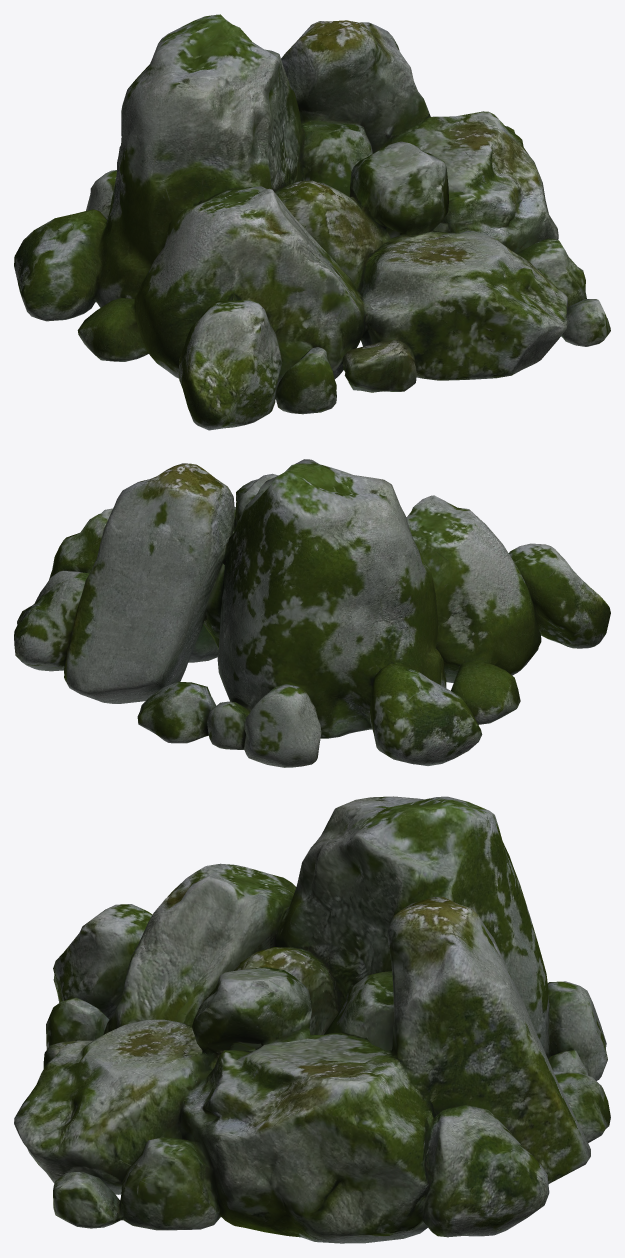
File: prop_rocks.glb
The picture shows the model from 3 angles, top to bottom: view 1: azimuth 30°, elevation 25°; view 2: azimuth 150°, elevation 25°; view 3: azimuth 270°, elevation 25°; orthographic projection. The views are drawn at different scales.
Visible parts, largest first — view 1: Mesh_0; view 2: Mesh_0; view 3: Mesh_0.
Boxes of the visible parts, x1,y1,x2,y2 form: Mesh_0: (14, 14, 610, 430); Mesh_0: (14, 459, 610, 767); Mesh_0: (14, 796, 610, 1243).
Size of the model in its own units: 1.92 by 1.01 by 1.8.
Materials: 1 (1 with a texture image).
